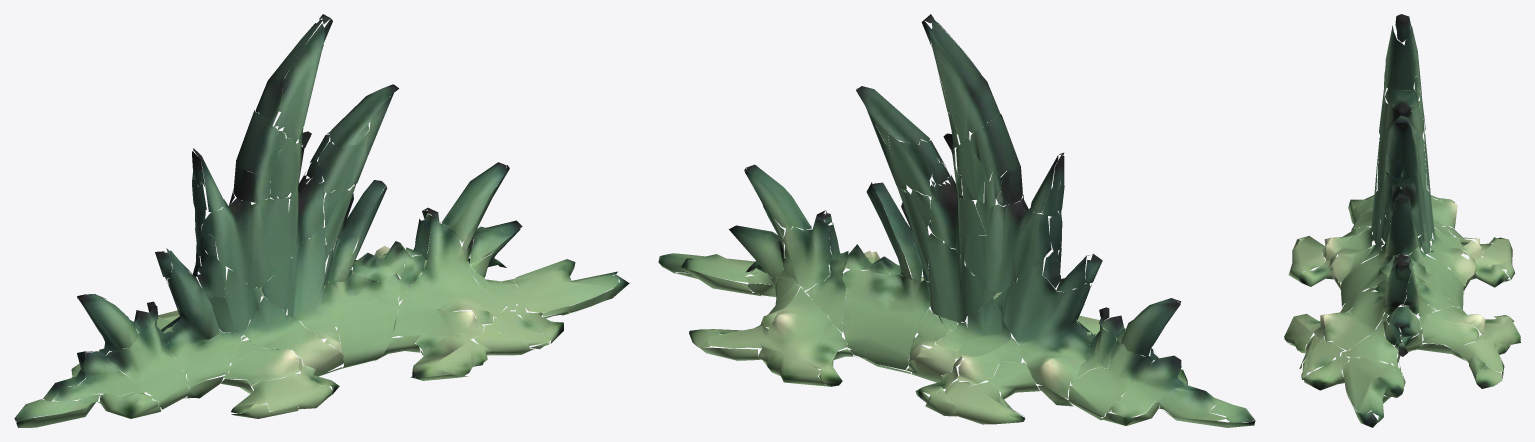
Rendered from green05.glb.
3 renders of one model, left to right at view 1: azimuth 30°, elevation 25°; view 2: azimuth 150°, elevation 25°; view 3: azimuth 270°, elevation 25°, orthographic. The views are drawn at different scales.
Parts seen in each view (by area): view 1: tripo_node_9f446b68-3828-4087-8e87-3c63534b7b4f; view 2: tripo_node_9f446b68-3828-4087-8e87-3c63534b7b4f; view 3: tripo_node_9f446b68-3828-4087-8e87-3c63534b7b4f.
Boxes of the visible parts, x1,y1,x2,y2 form: tripo_node_9f446b68-3828-4087-8e87-3c63534b7b4f: [14, 14, 629, 427]; tripo_node_9f446b68-3828-4087-8e87-3c63534b7b4f: [658, 14, 1255, 427]; tripo_node_9f446b68-3828-4087-8e87-3c63534b7b4f: [1284, 14, 1520, 427].
Bounding box in the file's own units: 1 × 0.5325 × 0.3845.
1 material, 1 textured.
